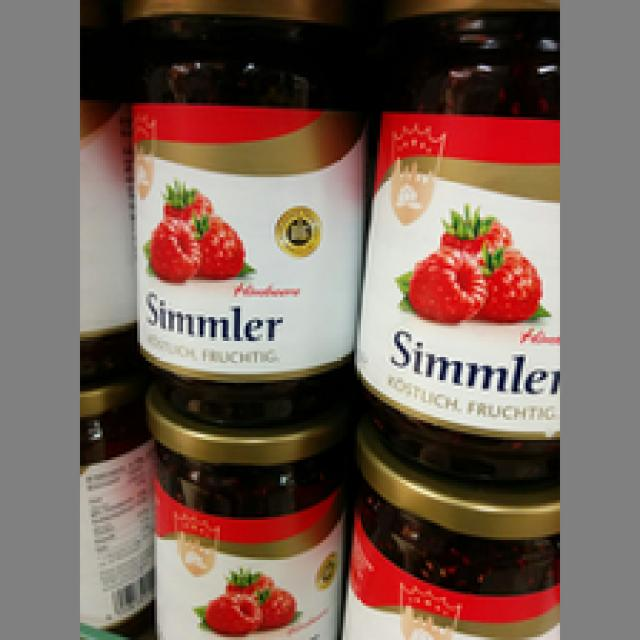groceries: (352, 0, 557, 489), (129, 0, 357, 429), (140, 392, 349, 637), (334, 420, 557, 637)
